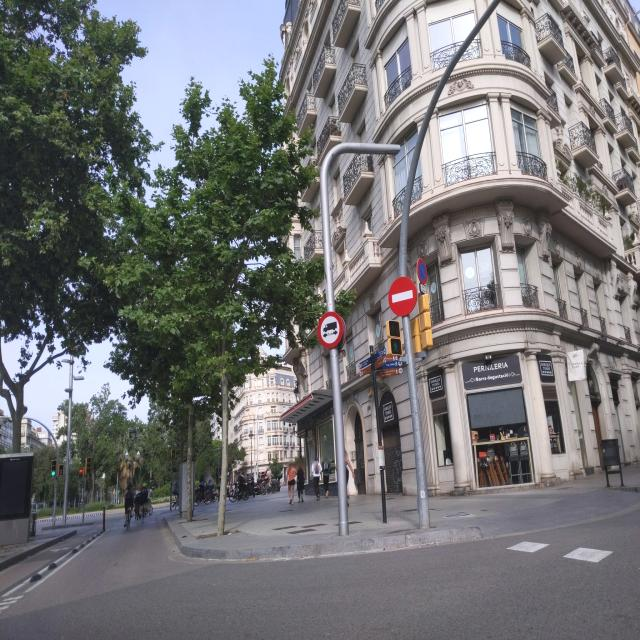bike: (193, 484, 211, 507), (230, 483, 250, 502), (261, 476, 277, 496), (124, 502, 134, 530), (142, 497, 154, 518), (170, 492, 180, 512), (140, 502, 148, 523)
